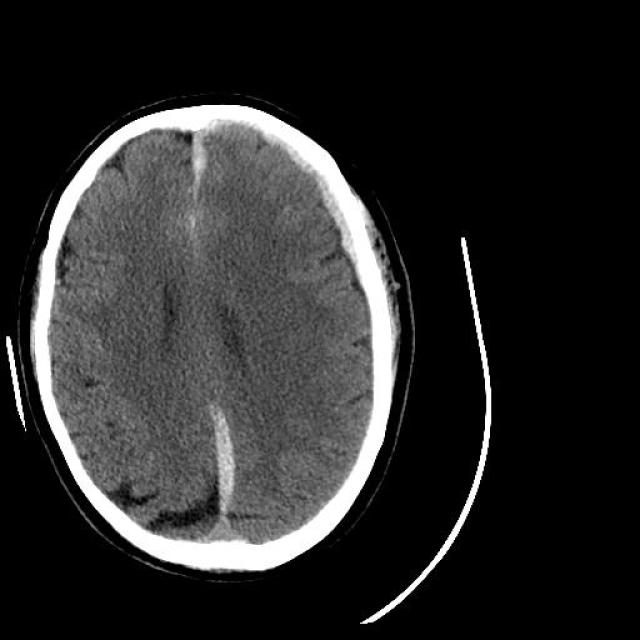Subdural: (216, 108, 389, 266), (180, 405, 269, 557), (166, 102, 214, 218)
